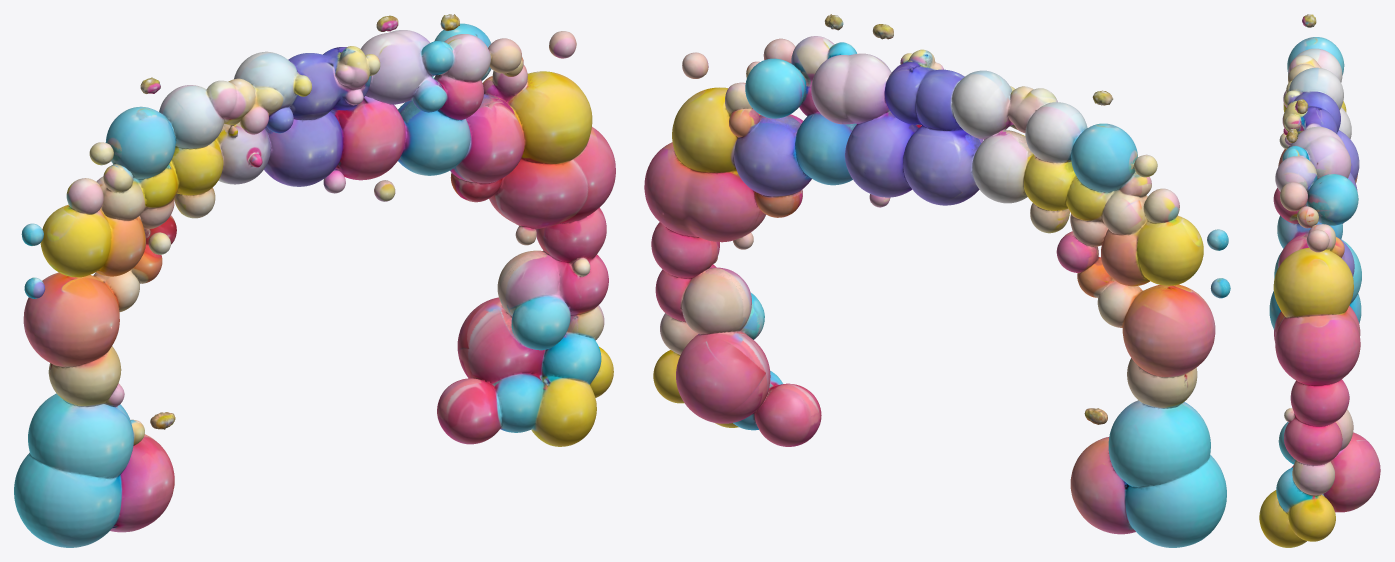
File: Balloon_Celebration_A_0723072204_texture.fbx
3 renders of one model, left to right at view 1: azimuth 30°, elevation 25°; view 2: azimuth 150°, elevation 25°; view 3: azimuth 270°, elevation 25°, orthographic. The views are drawn at different scales.
Parts seen in each view (by area): view 1: input; view 2: input; view 3: input.
Boxes of the visible parts, x1,y1,x2,y2 form: input: (14,14,615,547); input: (644,14,1230,547); input: (1259,14,1380,547).
Size of the model in its own units: 200 by 149 by 43.22.
Materials: 1 (1 with a texture image).
